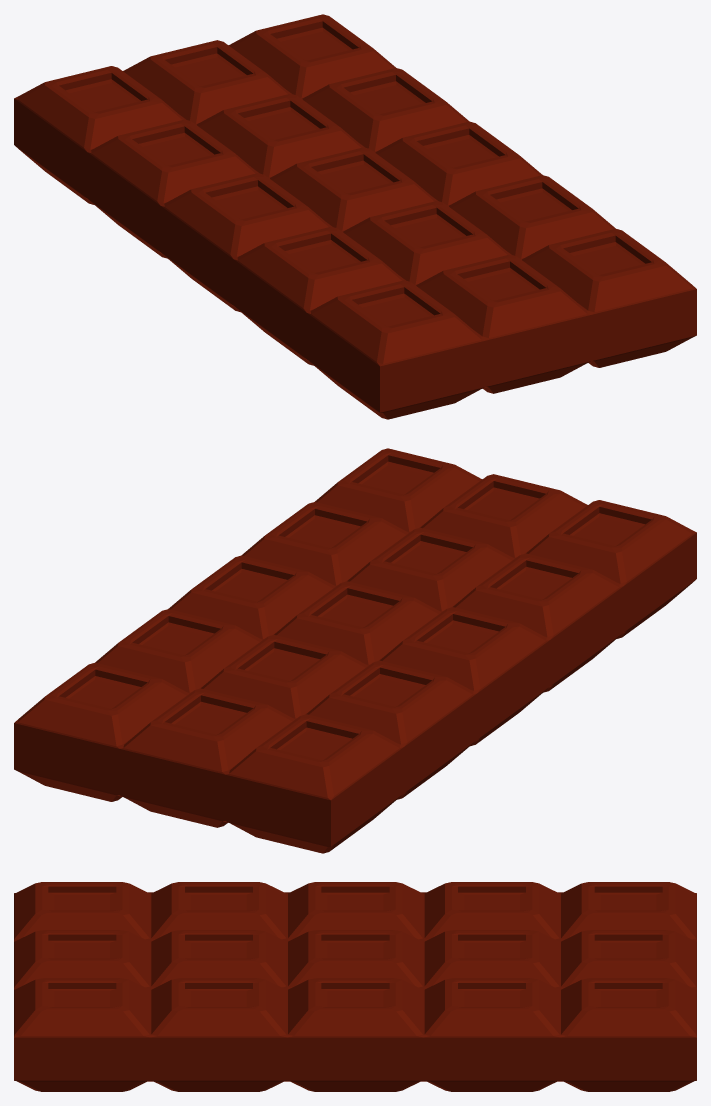
The model's file is Chocolate.fbx.
3 renders of one model, top to bottom at view 1: azimuth 30°, elevation 25°; view 2: azimuth 150°, elevation 25°; view 3: azimuth 270°, elevation 25°, orthographic. The views are drawn at different scales.
Visible parts, largest first — view 1: Cube; view 2: Cube; view 3: Cube.
Boxes of the visible parts, left/top/right/bottom form: Cube: left=14, top=14, right=696, bottom=419; Cube: left=14, top=448, right=696, bottom=853; Cube: left=14, top=882, right=696, bottom=1091.
Size of the model in its own units: 500 by 132 by 1000.
